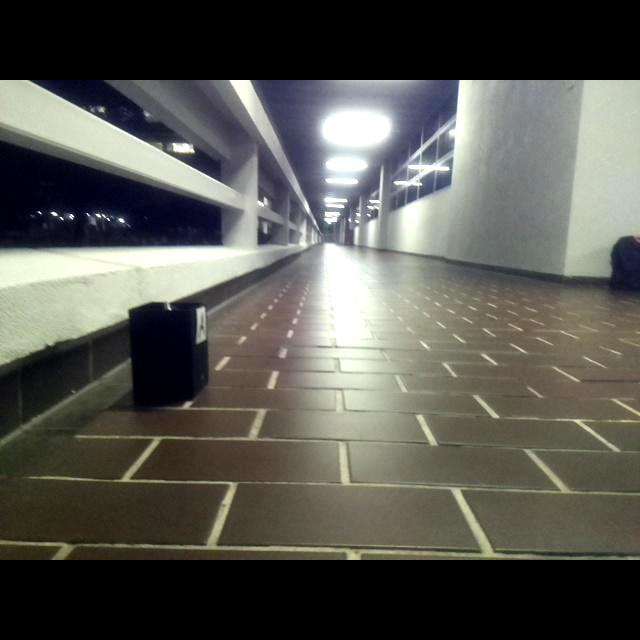A: (0, 540, 75, 560), (197, 308, 206, 344)
